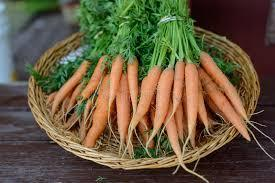Organic: (43, 5, 268, 166)
